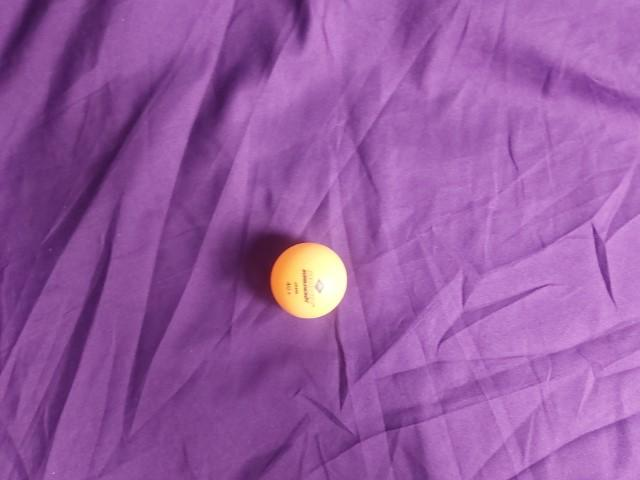oball: (281, 154, 377, 245)
